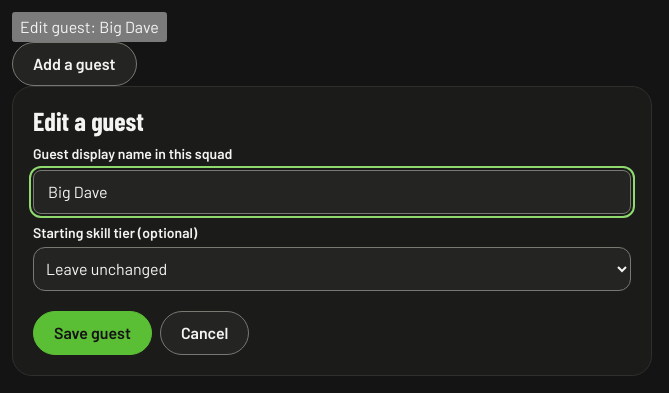
Test: GuestForm edit mode — the prefill, the defaults, and the command (Requirements 12.7–12.10) › submits EditGuest for that membership without overwriting the tier
The image size is (669, 393).
Step 1. Replace the text in the field labelled "Guest display name in this squad" with " Bigger Dave " → (332, 192), box [33, 170, 631, 214]
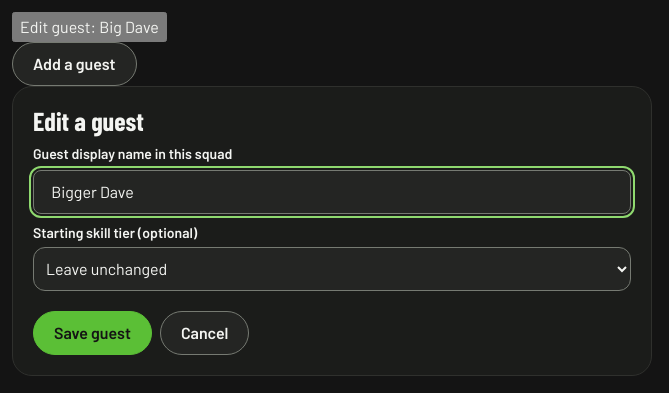
Step 2. Click the button "Save guest" → click(92, 333), box [33, 311, 152, 355]
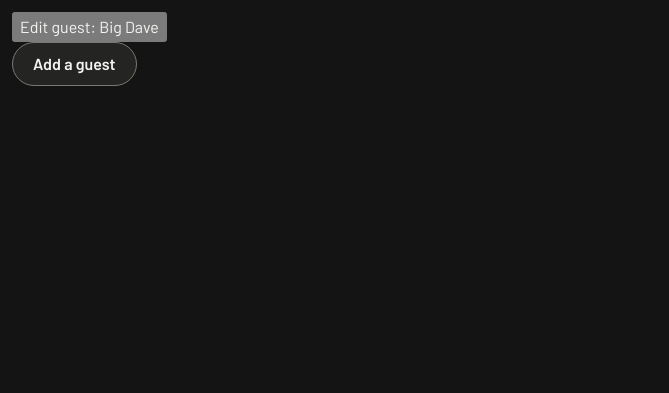
Result: the heading "Edit a guest" is gone
